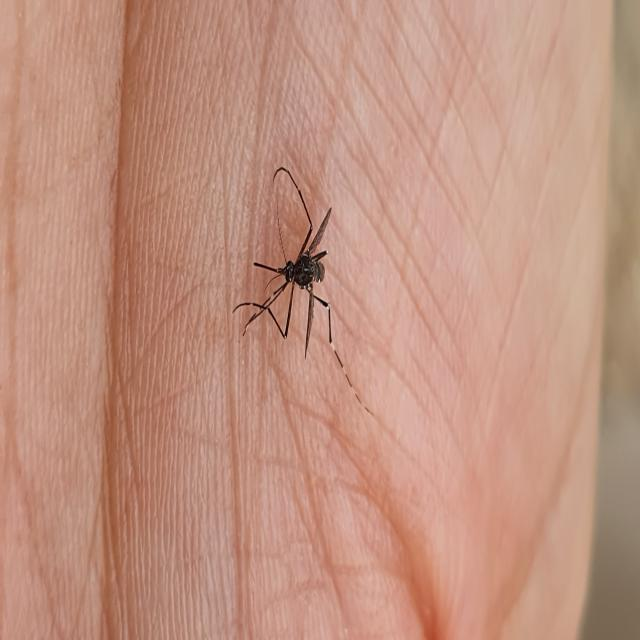albopictus: (235, 154, 373, 403)
